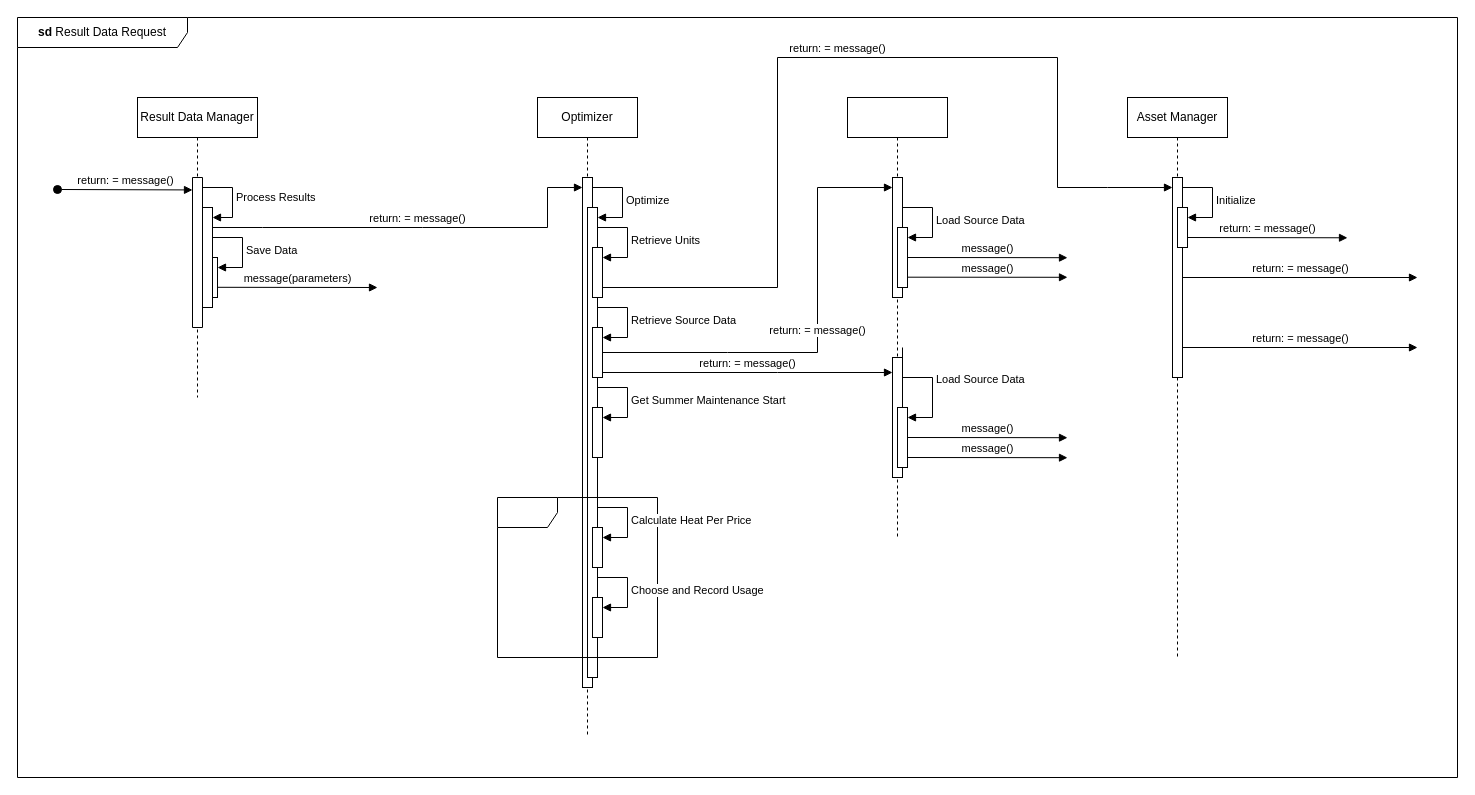
The diagram is 1475 pixels wide and 795 high, and some of its shapes have lost their labels. Each missing label, with the centre of its shape:
"loop i" goes at pixel 577 577.
"Source Data Manager" goes at pixel 897 317.
